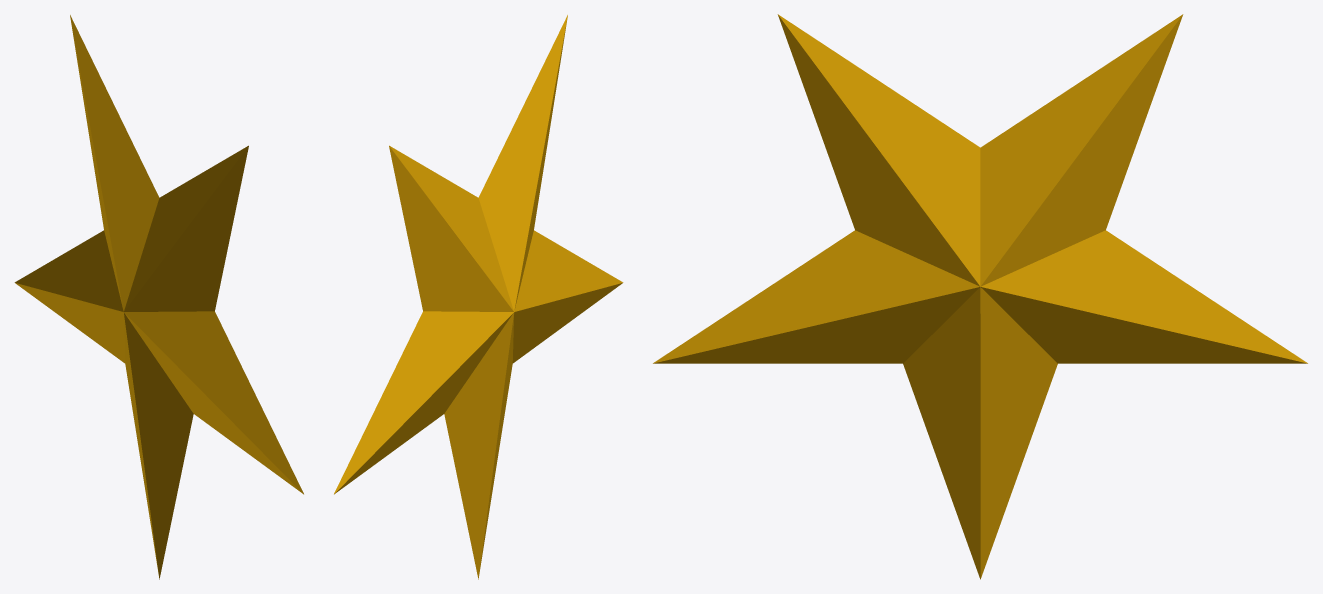
File: star.glb
3 renders of one model, left to right at view 1: azimuth 30°, elevation 25°; view 2: azimuth 150°, elevation 25°; view 3: azimuth 270°, elevation 25°, orthographic. The views are drawn at different scales.
Parts seen in each view (by area): view 1: Mesh_Mesh.015; view 2: Mesh_Mesh.015; view 3: Mesh_Mesh.015.
Part boxes in pixels (x1,y1,x2,y2): Mesh_Mesh.015: (14, 15, 303, 579); Mesh_Mesh.015: (334, 15, 623, 579); Mesh_Mesh.015: (653, 14, 1307, 579).
Bounding box in the file's own units: 0.708 × 4.74 × 4.98.
